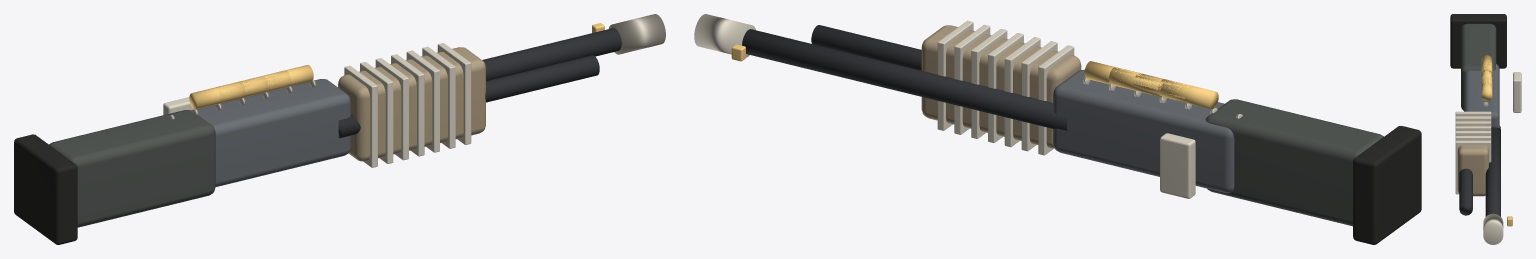
File: shotgun_m5_candidate.glb
The picture shows the model from 3 angles, left to right: view 1: azimuth 30°, elevation 25°; view 2: azimuth 150°, elevation 25°; view 3: azimuth 270°, elevation 25°; orthographic projection. The views are drawn at different scales.
Visible parts, largest first — view 1: stock_polymer, shotgun_receiver, pump_forend_grooved, rubber_butt_pad, upper_barrel, magazine_tube, ported_choke, pump_groove_06, pump_groove_01, pump_groove_03, pump_groove_05, pump_groove_00 (+6 smaller); view 2: stock_polymer, shotgun_receiver, upper_barrel, rubber_butt_pad, pump_forend_grooved, magazine_tube, ghost_ring_rear, ported_choke, side_saddle_shell_00, pump_groove_06, pump_groove_02, pump_groove_05 (+7 smaller); view 3: stock_polymer, rubber_butt_pad, pump_forend_grooved, shotgun_receiver, upper_barrel, magazine_tube, ported_choke, pump_groove_06, ghost_ring_rear, side_saddle_shell_03, pump_groove_00, pump_groove_01 (+8 smaller).
Boxes of the visible parts, x1,y1,x2,y2 form: stock_polymer: [49, 110, 215, 227]; shotgun_receiver: [197, 79, 350, 186]; pump_forend_grooved: [338, 47, 485, 161]; rubber_butt_pad: [14, 134, 77, 244]; upper_barrel: [482, 28, 621, 80]; magazine_tube: [338, 55, 599, 138]; ported_choke: [608, 14, 665, 54]; pump_groove_06: [437, 43, 471, 144]; pump_groove_01: [360, 62, 393, 163]; pump_groove_03: [391, 54, 424, 156]; pump_groove_05: [422, 46, 455, 148]; pump_groove_00: [344, 65, 377, 167]; stock_polymer: [1205, 99, 1383, 226]; shotgun_receiver: [1053, 69, 1234, 193]; upper_barrel: [742, 29, 1066, 130]; rubber_butt_pad: [1353, 126, 1421, 244]; pump_forend_grooved: [921, 25, 1081, 148]; magazine_tube: [811, 25, 921, 70]; ghost_ring_rear: [1160, 133, 1195, 198]; ported_choke: [694, 14, 755, 57]; side_saddle_shell_00: [1157, 79, 1218, 109]; pump_groove_06: [937, 20, 973, 130]; pump_groove_02: [1004, 37, 1040, 147]; pump_groove_05: [954, 24, 990, 134]; stock_polymer: [1461, 23, 1496, 110]; rubber_butt_pad: [1450, 14, 1506, 68]; pump_forend_grooved: [1457, 115, 1488, 196]; shotgun_receiver: [1464, 63, 1499, 127]; upper_barrel: [1485, 126, 1500, 216]; magazine_tube: [1459, 168, 1472, 215]; ported_choke: [1483, 213, 1503, 244]; pump_groove_06: [1455, 140, 1491, 194]; ghost_ring_rear: [1513, 72, 1521, 112]; side_saddle_shell_03: [1481, 79, 1492, 100]; pump_groove_00: [1455, 111, 1491, 116]; pump_groove_01: [1455, 116, 1491, 121].
Size of what is drawn, in the model's own units: 4.49 by 0.637 by 0.68.
